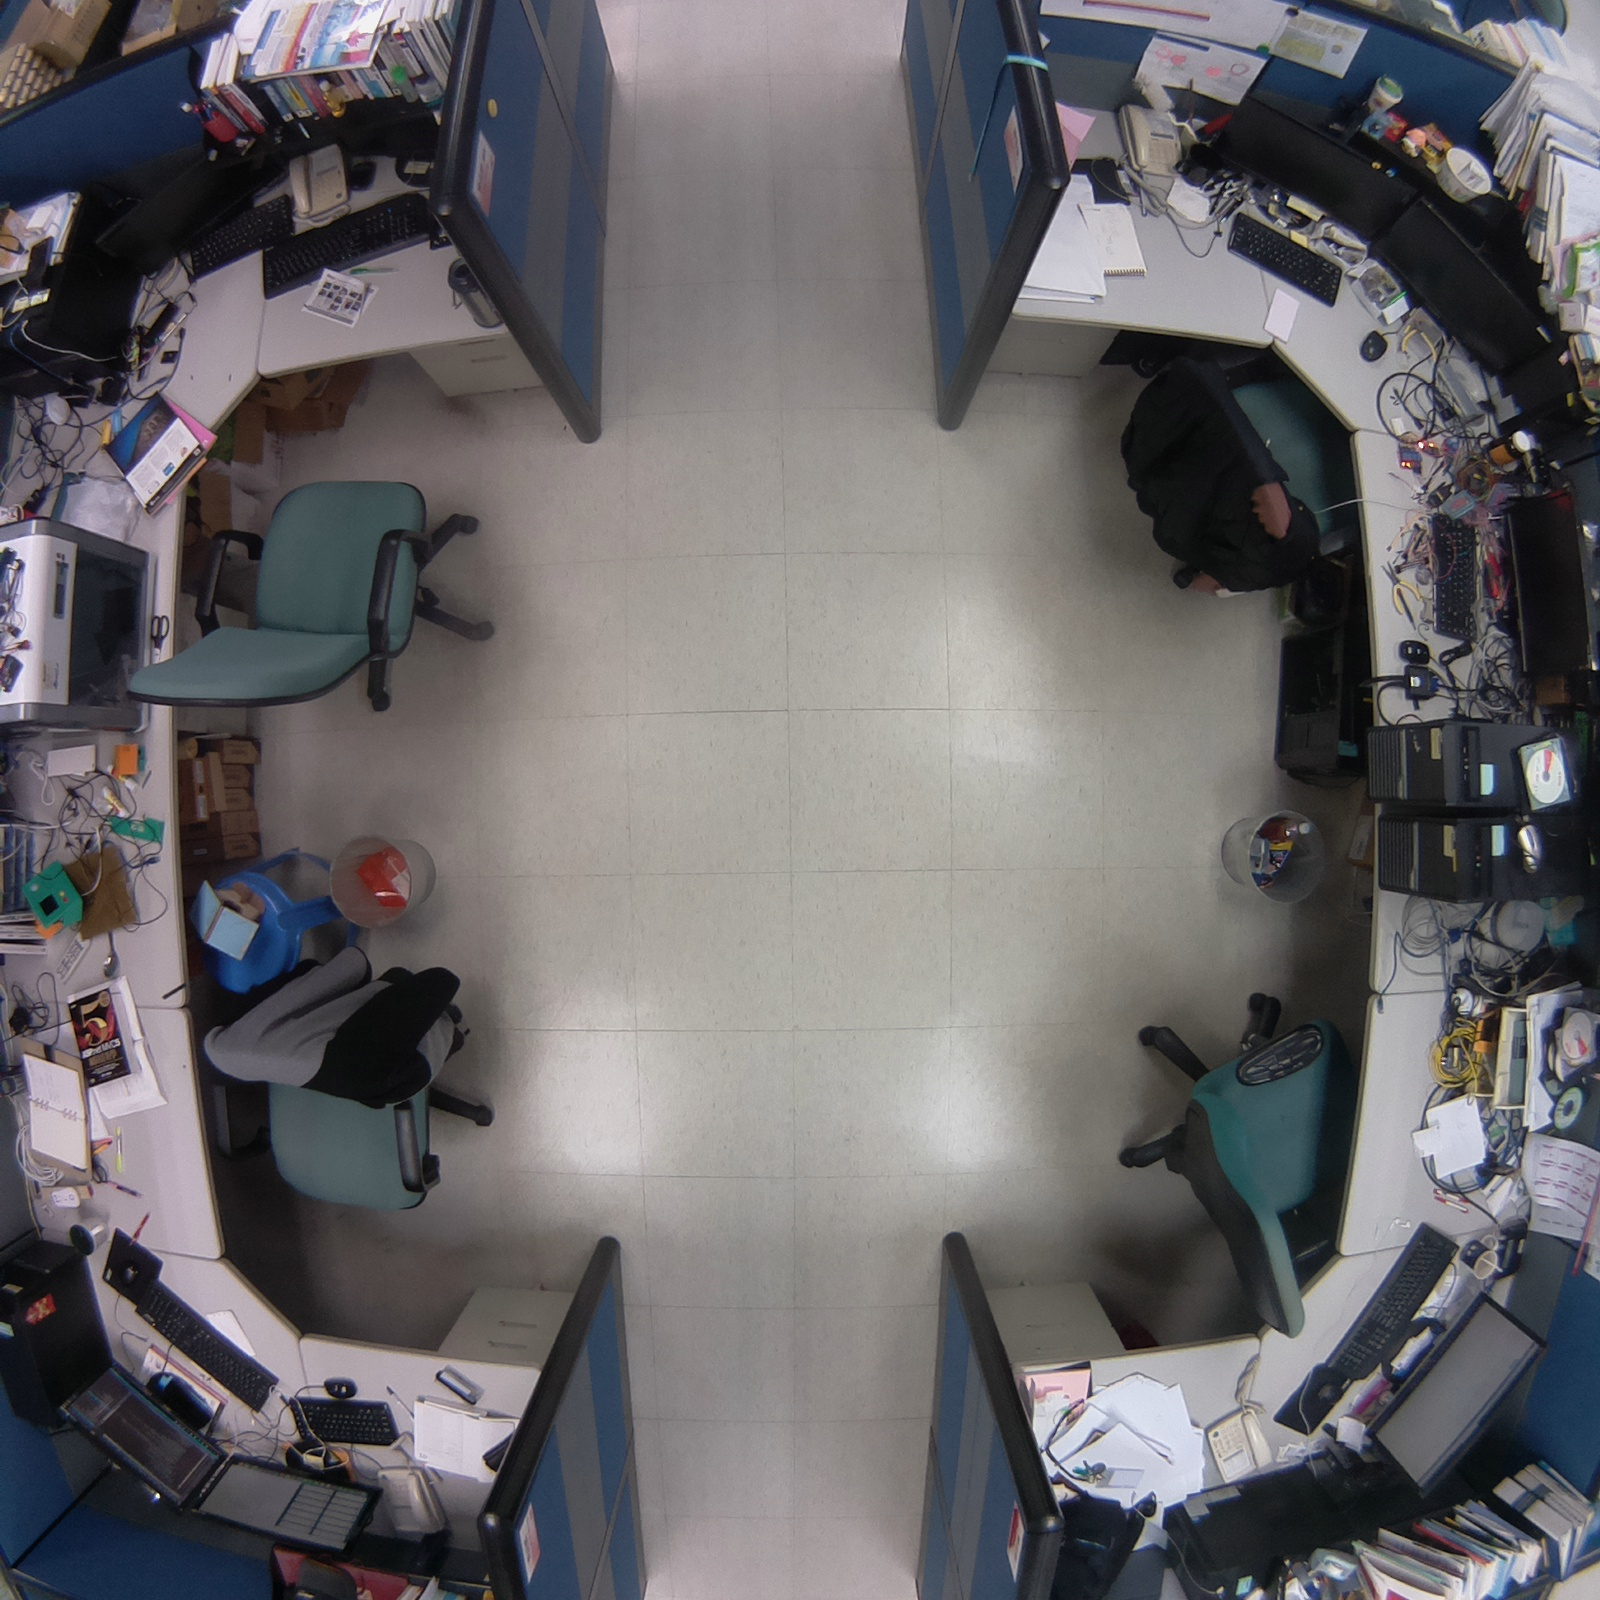chair: (110, 456, 501, 730), (1108, 977, 1363, 1367), (182, 935, 508, 1234), (1108, 319, 1377, 618)
